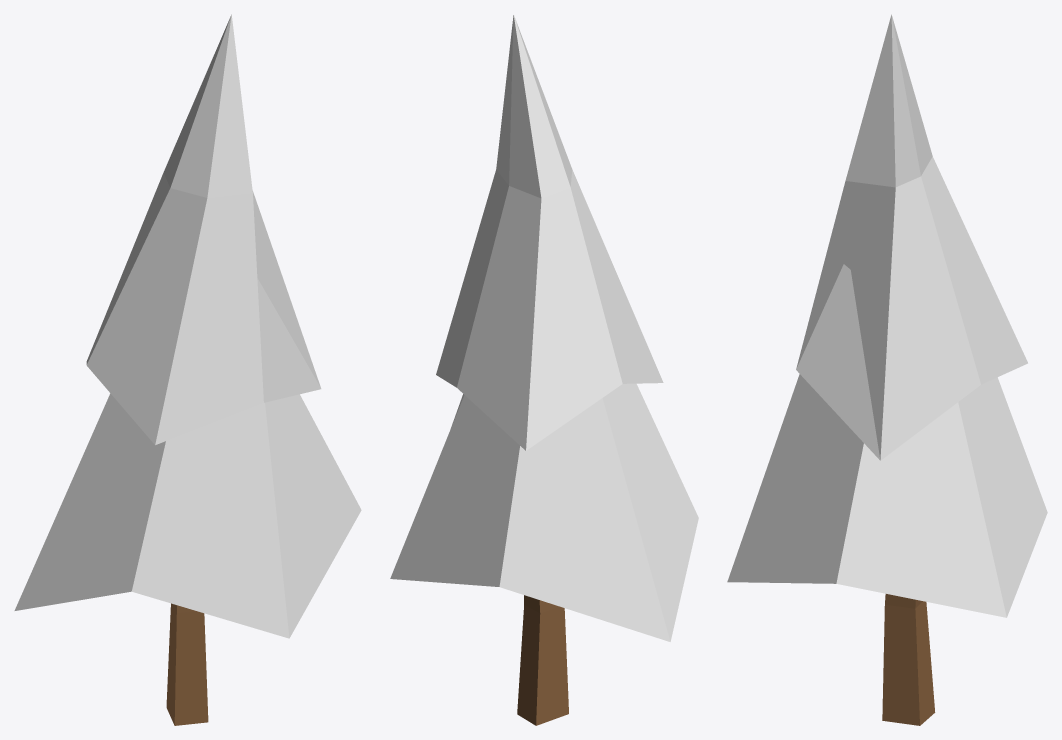
The model's file is Pine_Tree_s_Snow_08_LOD.fbx.
3 renders of one model, left to right at view 1: azimuth 30°, elevation 25°; view 2: azimuth 150°, elevation 25°; view 3: azimuth 270°, elevation 25°, orthographic. The views are drawn at different scales.
Parts seen in each view (by area): view 1: Pine_Tree_s_Snow_08_LOD0; view 2: Pine_Tree_s_Snow_08_LOD0; view 3: Pine_Tree_s_Snow_08_LOD0.
Boxes of the visible parts, left/top/right/bottom form: Pine_Tree_s_Snow_08_LOD0: left=14, top=14, right=361, bottom=725; Pine_Tree_s_Snow_08_LOD0: left=390, top=15, right=698, bottom=725; Pine_Tree_s_Snow_08_LOD0: left=727, top=14, right=1047, bottom=725.
Size of what is drawn, in the model's own units: 75.23 by 172 by 69.34.
